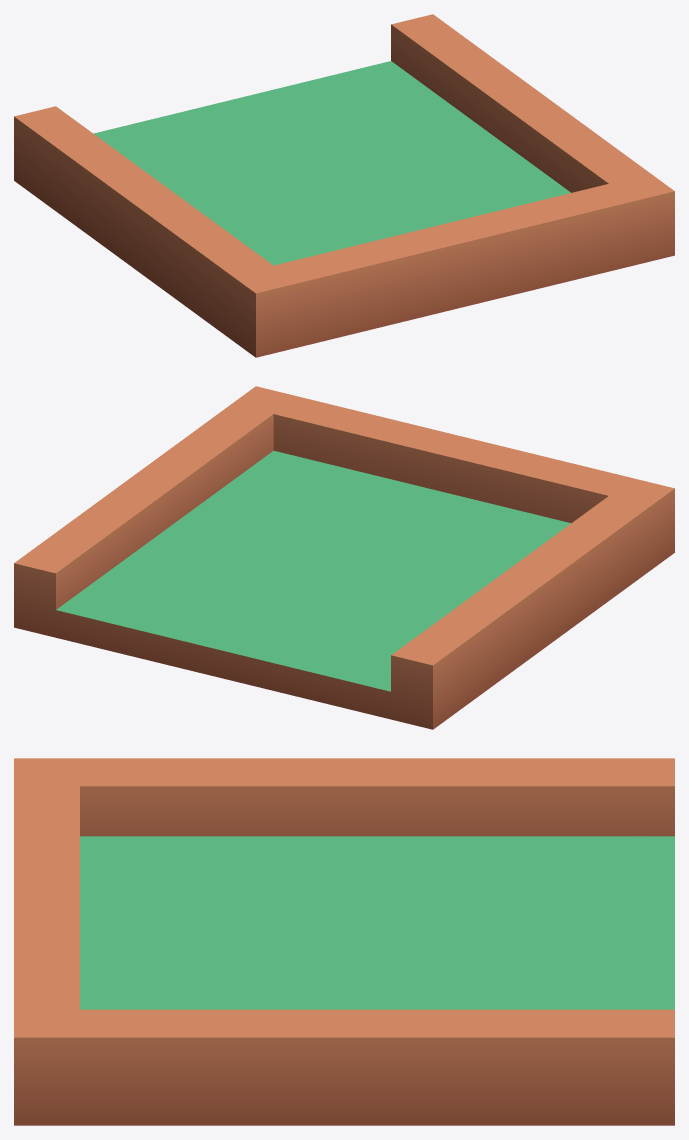
The model's file is end.glb.
The picture shows the model from 3 angles, top to bottom: view 1: azimuth 30°, elevation 25°; view 2: azimuth 150°, elevation 25°; view 3: azimuth 270°, elevation 25°; orthographic projection. The views are drawn at different scales.
Parts seen in each view (by area): view 1: end; view 2: end; view 3: end.
Part boxes in pixels (x1,y1,x2,y2): end: (14, 14, 674, 357); end: (14, 386, 674, 729); end: (14, 758, 674, 1125).
Size of the model in its own units: 0.9999 by 0.1466 by 0.9999.
1 material, 1 textured.
